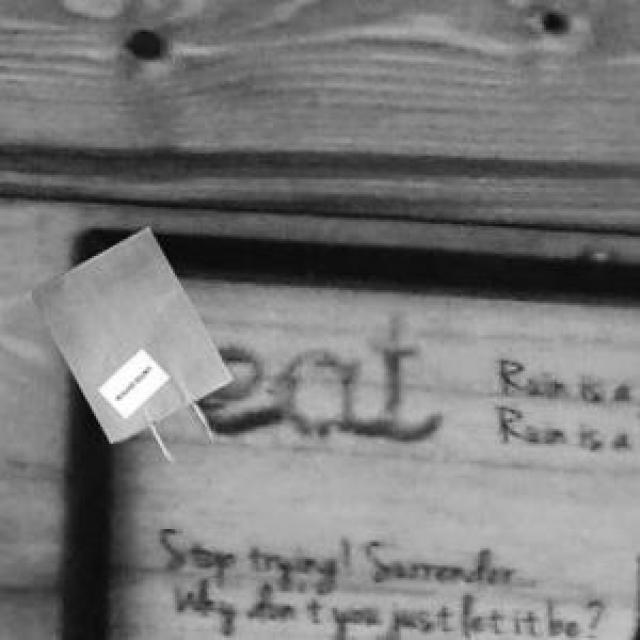paper: (28, 224, 228, 459)
